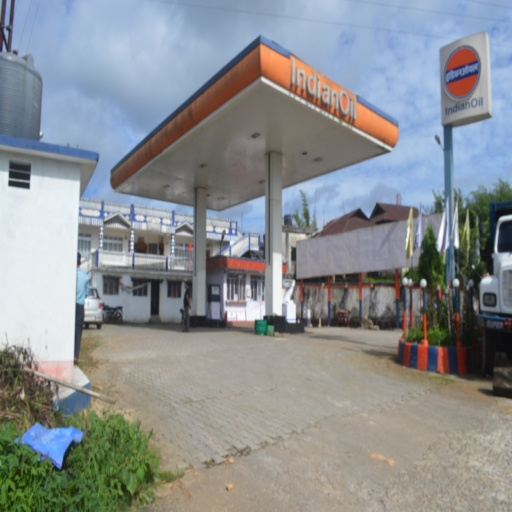roof: (118, 33, 392, 202)
